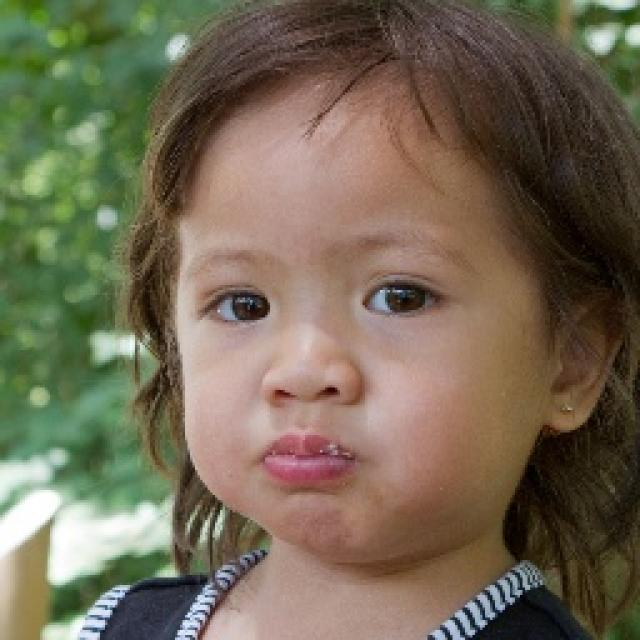earlobe: (542, 284, 632, 434)
